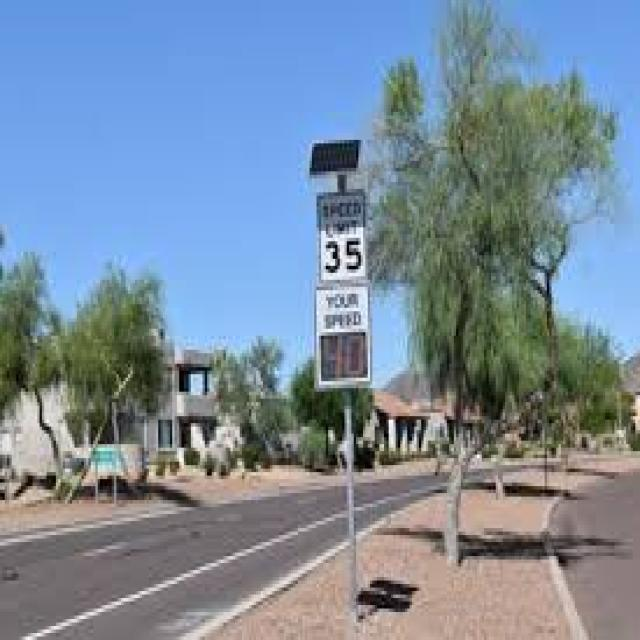speedLimit35: (318, 196, 364, 283)
